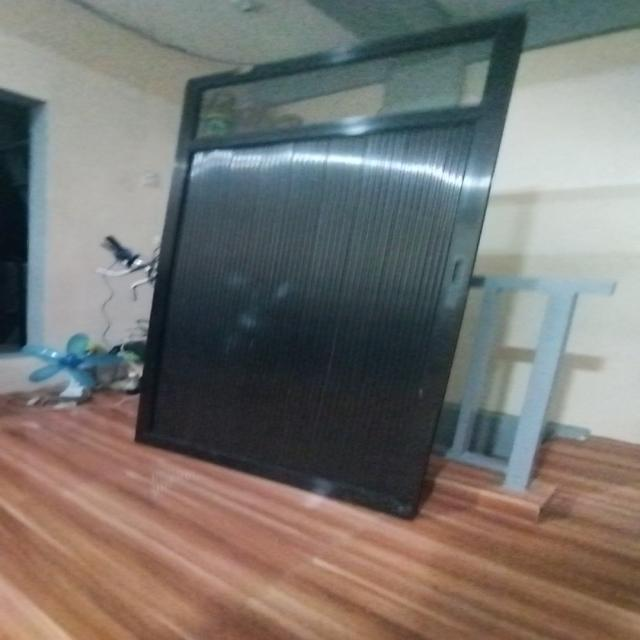door: (128, 9, 523, 512)
